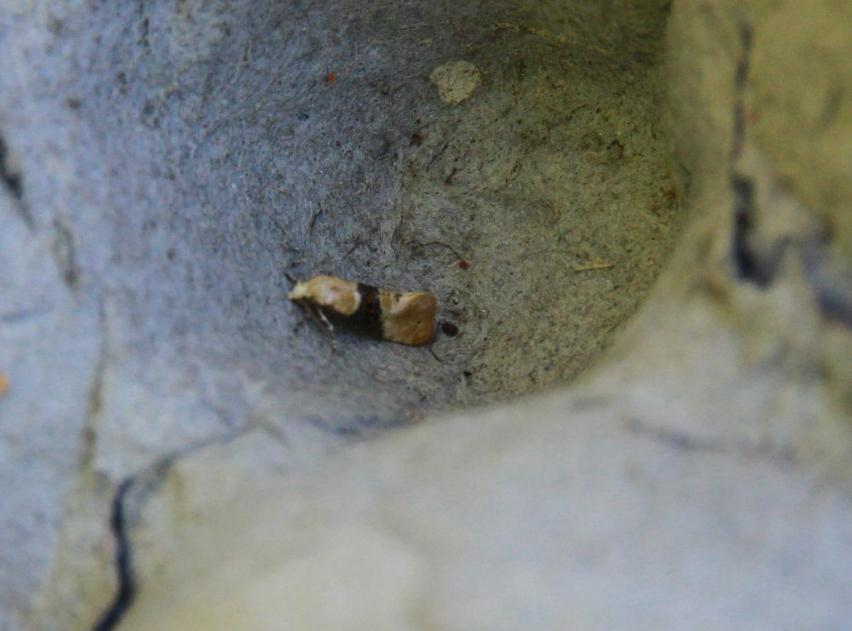Eupoecilia Ambiguella: (282, 267, 444, 360)
